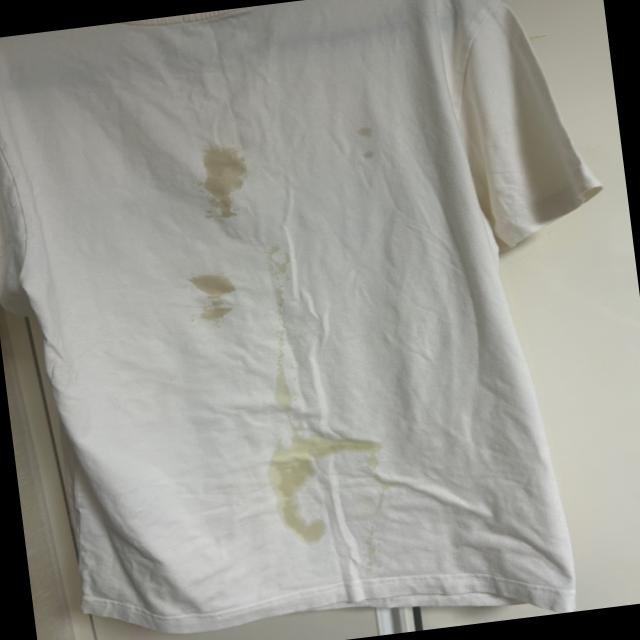stain: (261, 419, 389, 507), (198, 141, 264, 226), (280, 478, 350, 546), (261, 321, 308, 410), (192, 258, 248, 330), (271, 250, 308, 307), (339, 118, 379, 164)
